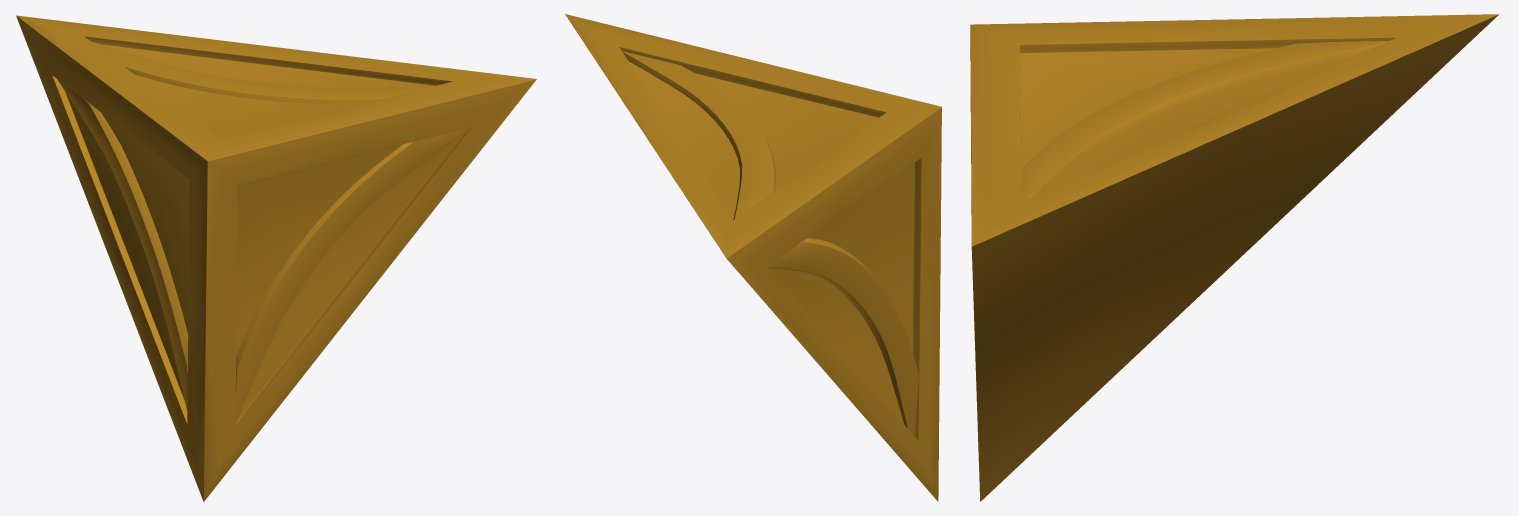
Rendered from Holocron_Esquina_04.obj.
3 views of the same model, side by side, from view 1: azimuth 30°, elevation 25°; view 2: azimuth 150°, elevation 25°; view 3: azimuth 270°, elevation 25° (orthographic). The views are drawn at different scales.
Visible parts, largest first — view 1: Holocron_Esquina_04; view 2: Holocron_Esquina_04; view 3: Holocron_Esquina_04.
Boxes of the visible parts, <box> form: Holocron_Esquina_04: <box>16,15,536,501</box>; Holocron_Esquina_04: <box>565,14,941,501</box>; Holocron_Esquina_04: <box>970,14,1498,501</box>.
Bounding box in the file's own units: 5.19 × 5.22 × 5.19.
